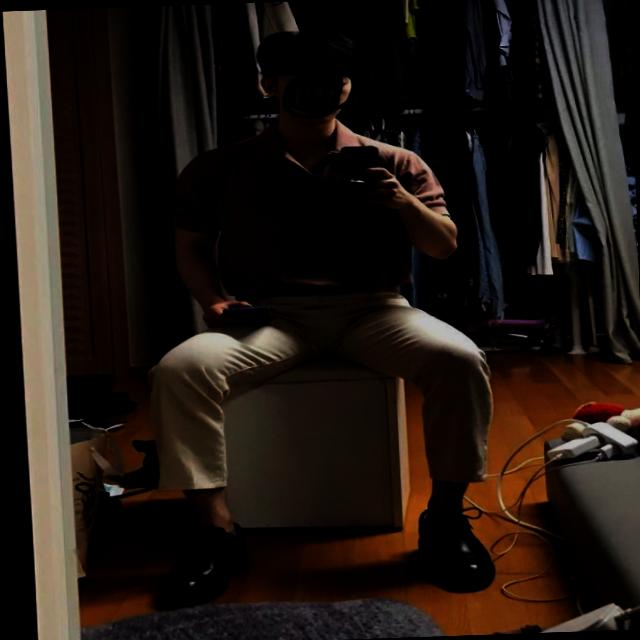cottonpants: (145, 288, 495, 496)
shortsleeve: (168, 110, 457, 302)
